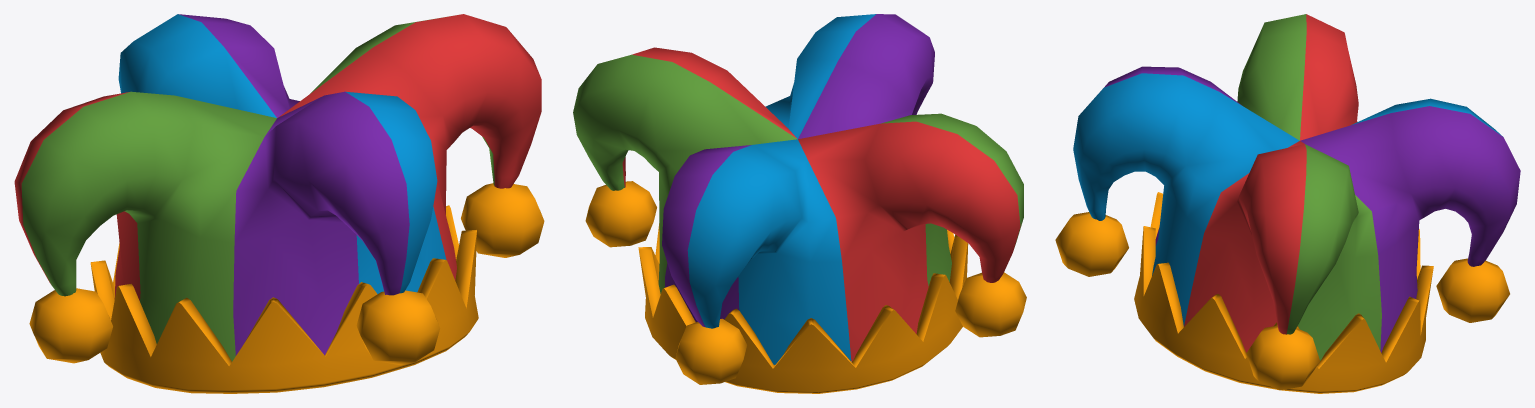
File: Hat_59.glb
The picture shows the model from 3 angles, left to right: view 1: azimuth 30°, elevation 25°; view 2: azimuth 150°, elevation 25°; view 3: azimuth 270°, elevation 25°; orthographic projection. The views are drawn at different scales.
Parts seen in each view (by area): view 1: Hat_59; view 2: Hat_59; view 3: Hat_59.
Part boxes in pixels (left/top/right/bottom): Hat_59: left=14, top=14, right=544, bottom=393; Hat_59: left=573, top=14, right=1026, bottom=393; Hat_59: left=1055, top=14, right=1520, bottom=393.
Size of the model in its own units: 1 by 0.588 by 0.9176.
1 material, 1 textured.
